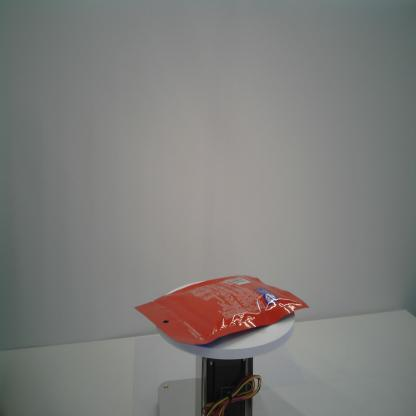Dried Fruit: (133, 274, 310, 346)
